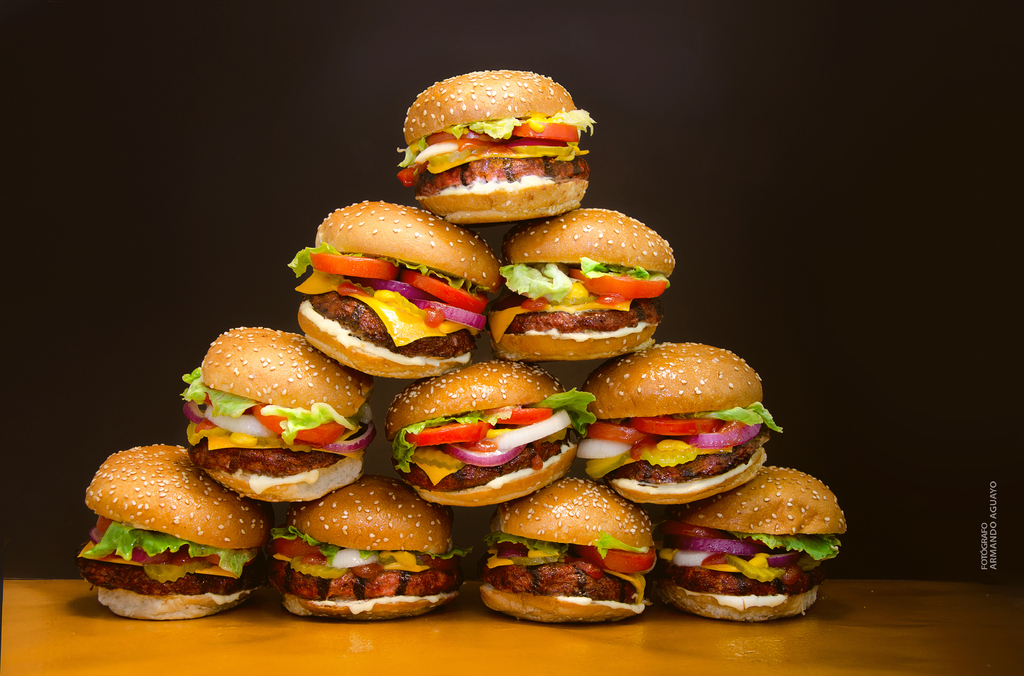Hamburger: (77, 71, 848, 615)
